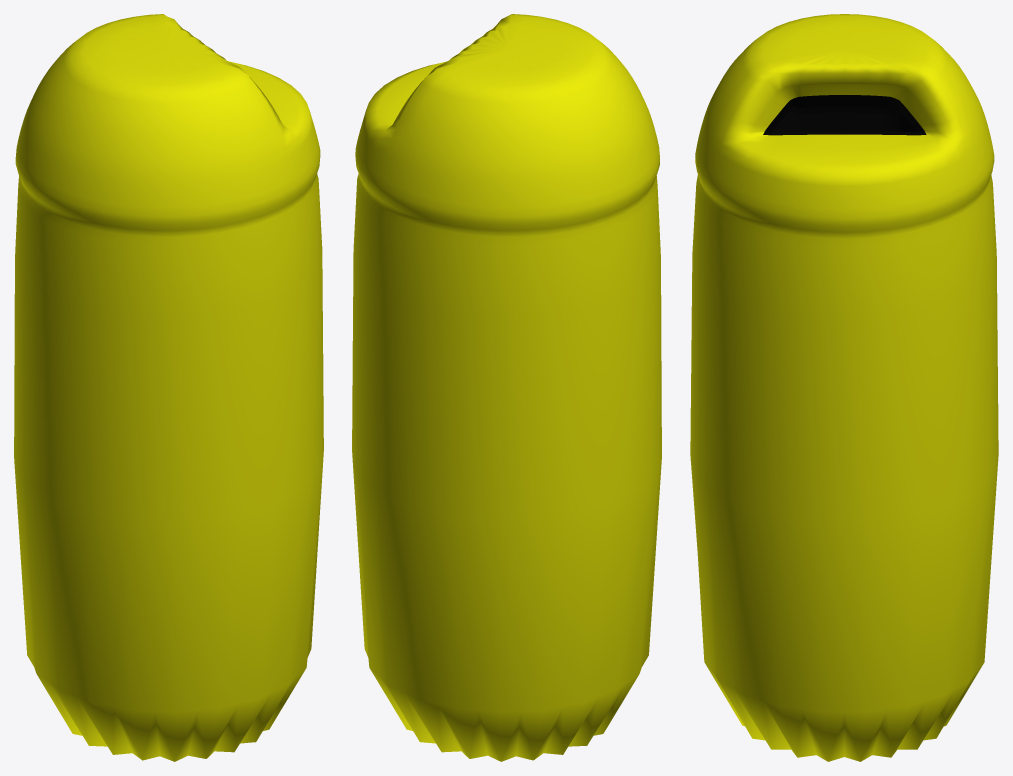
The model's file is BinE.fbx.
3 renders of one model, left to right at view 1: azimuth 30°, elevation 25°; view 2: azimuth 150°, elevation 25°; view 3: azimuth 270°, elevation 25°, orthographic.
Parts seen in each view (by area): view 1: BinEmpty; view 2: BinEmpty; view 3: BinEmpty.
Boxes of the visible parts, box(x1,y1,x2,y2) form: BinEmpty: box(14, 14, 323, 761); BinEmpty: box(352, 14, 661, 761); BinEmpty: box(690, 14, 998, 761).
Size of the model in its own units: 0.3539 by 0.8418 by 0.3517.
